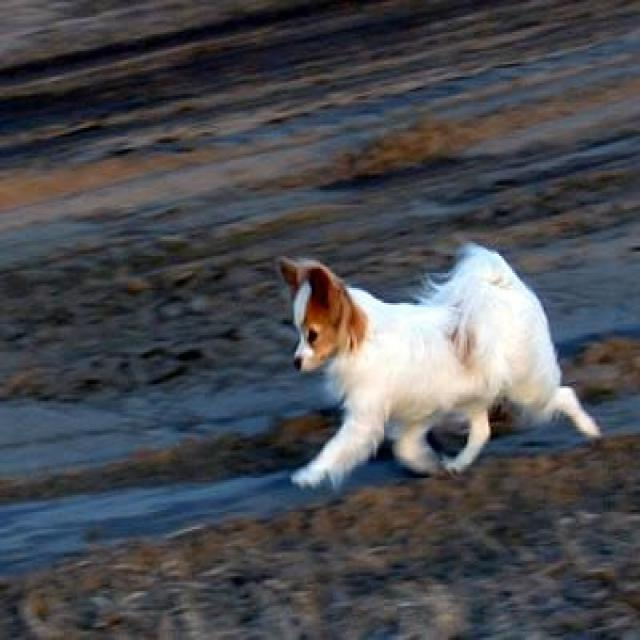papillon: (278, 246, 600, 487)
